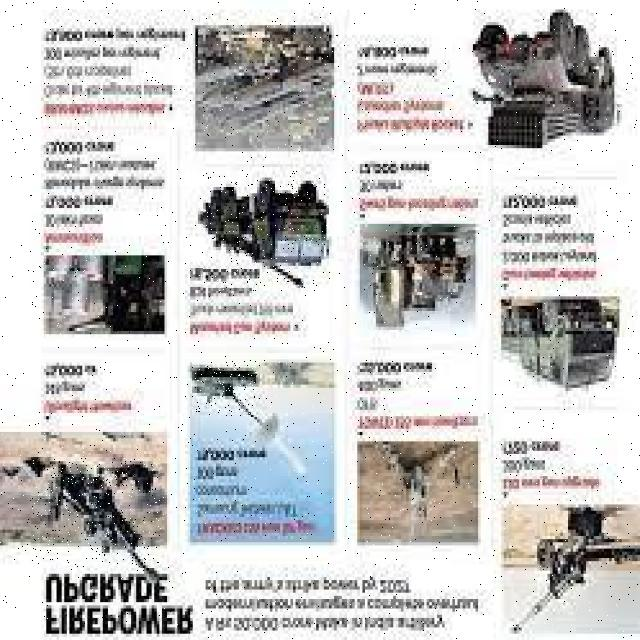MIL_MBT: (203, 170, 326, 291), (32, 458, 160, 568), (363, 229, 467, 331), (193, 361, 259, 417)
